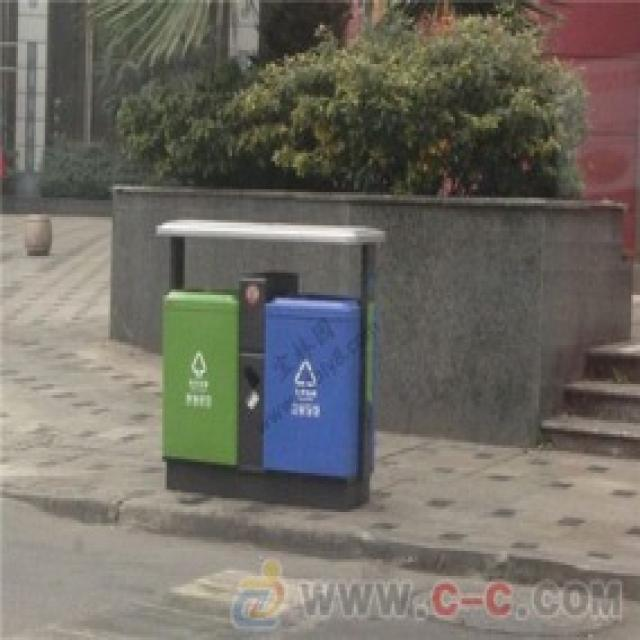garbage_bin: (153, 214, 383, 512)
